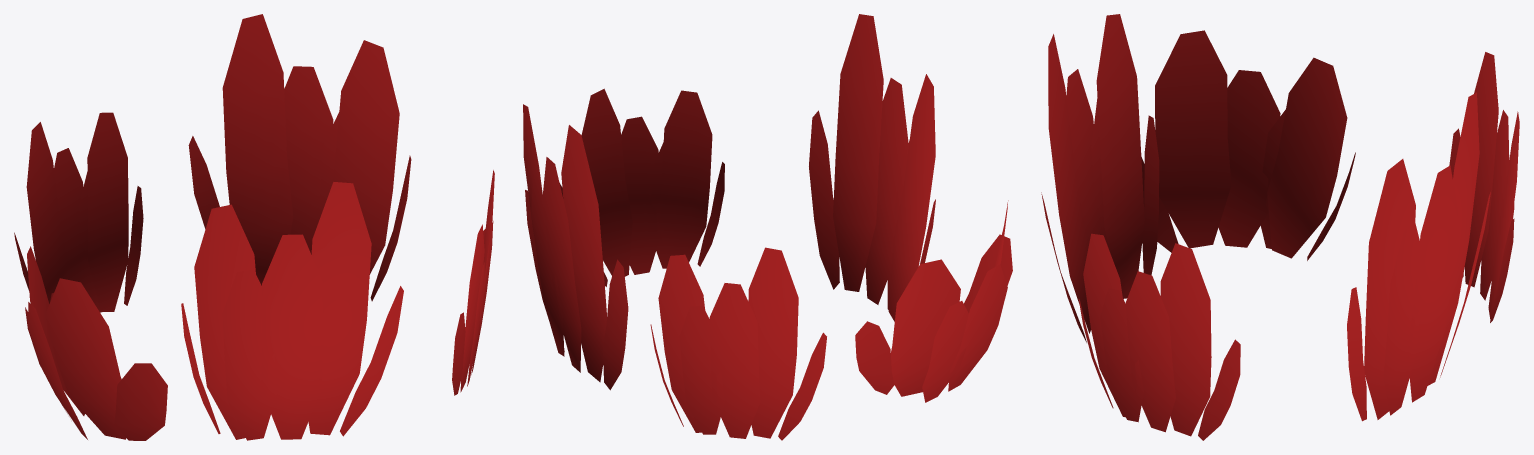
Rendered from grass01.fbx.
3 renders of one model, left to right at view 1: azimuth 30°, elevation 25°; view 2: azimuth 150°, elevation 25°; view 3: azimuth 270°, elevation 25°, orthographic. The views are drawn at different scales.
Visible parts, largest first — view 1: grassPile.005; view 2: grassPile.005; view 3: grassPile.005.
Part boxes in pixels (x1=…): grassPile.005: x1=14, y1=14, x2=494, y2=440; grassPile.005: x1=523, y1=14, x2=1012, y2=440; grassPile.005: x1=1041, y1=14, x2=1519, y2=440.
Size of the model in its own units: 61.85 by 36.45 by 52.27.
